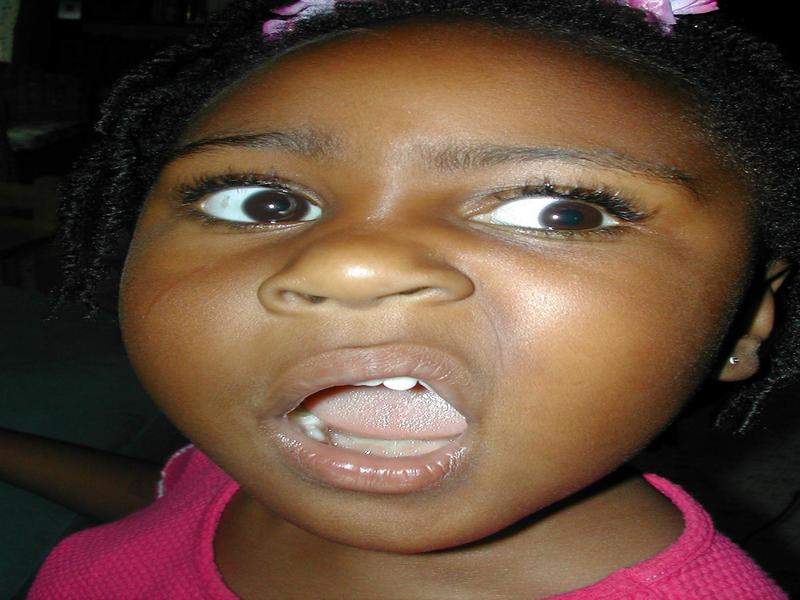person: (68, 1, 792, 600)
